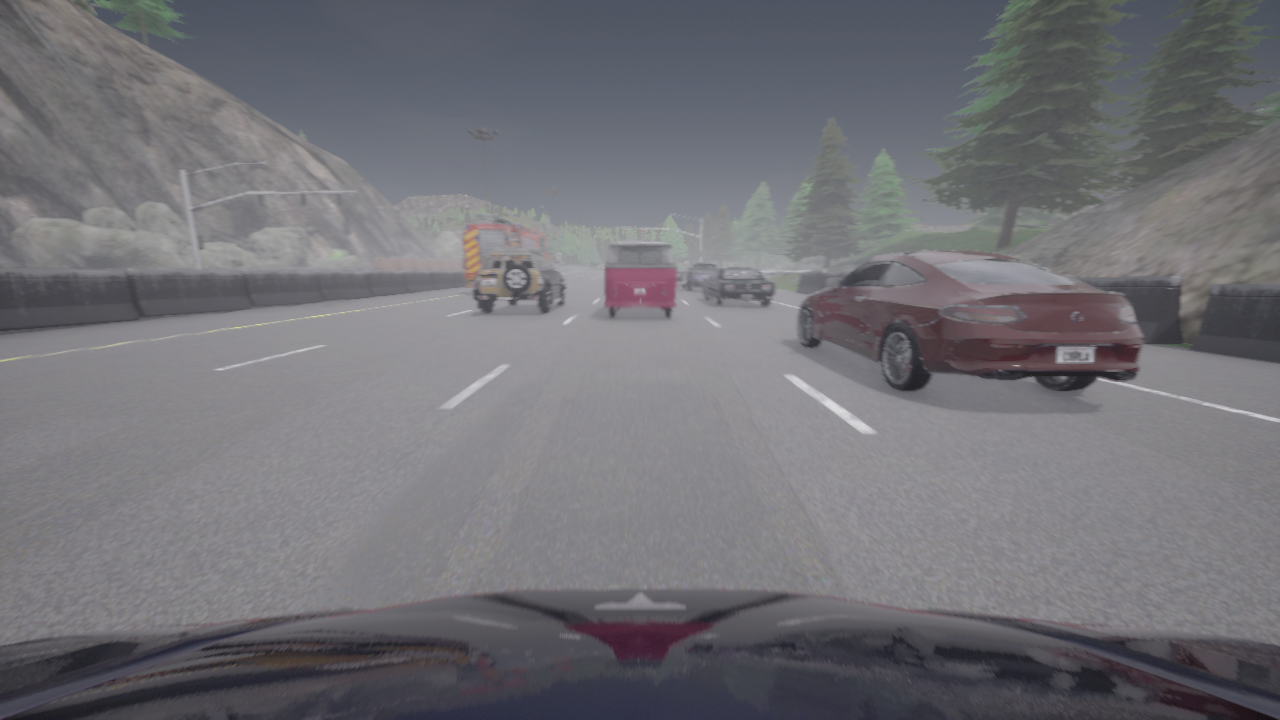cyclist: (0, 588, 1279, 719), (797, 250, 1143, 392), (463, 214, 554, 288), (473, 249, 566, 313), (604, 241, 674, 317), (703, 268, 775, 305), (681, 262, 716, 291), (675, 267, 686, 281)
